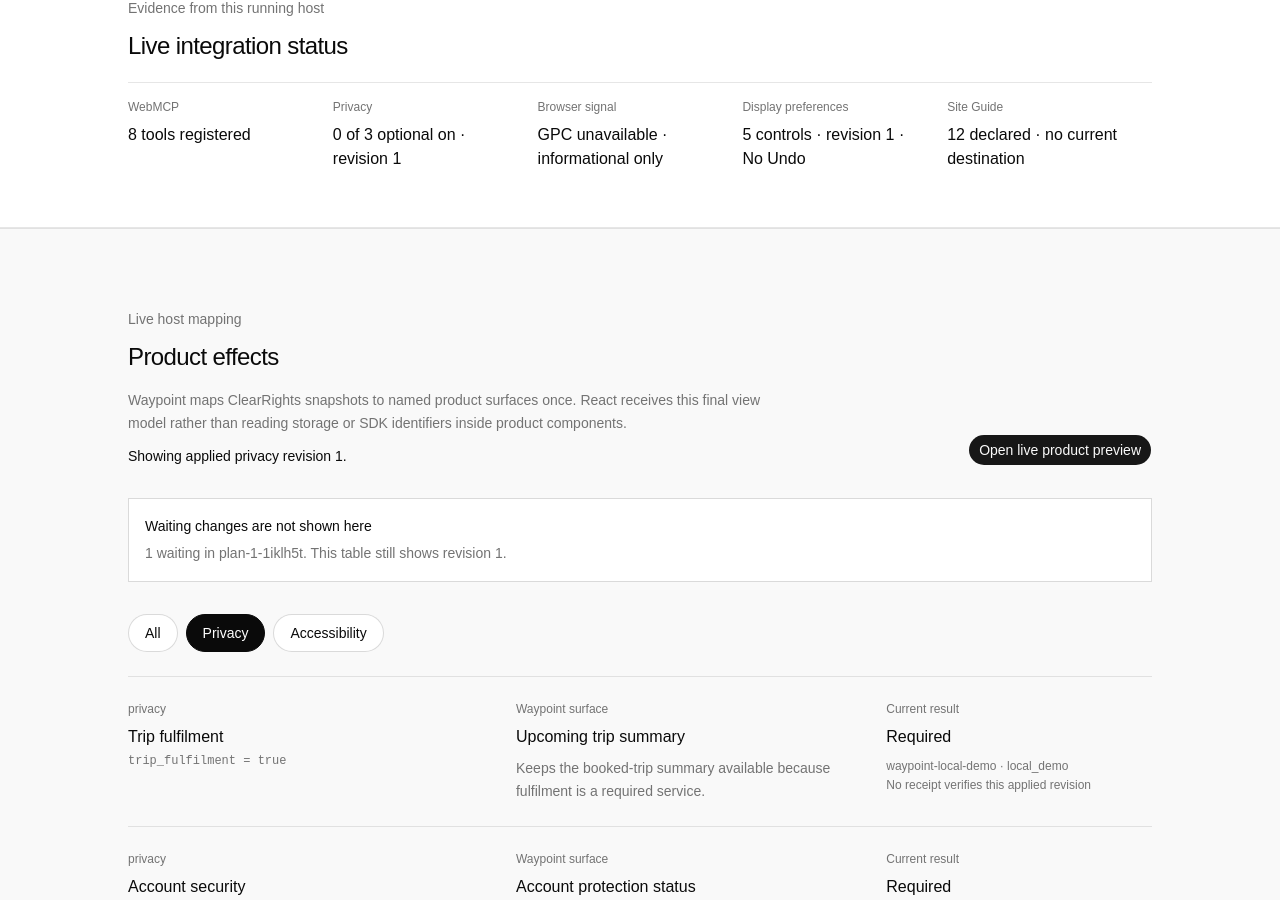
it: privacy settings UI › keeps pending privacy drafts separate from the applied product effects inspector
(page scrolled)
Check: the text "Waiting changes are not shown here" is shown, box [145,518,372,534]
Check: the text "still shows revision 1" is shown, box [145,545,507,561]
Click the button "Open live product preview": point(1060, 450) [968,434,1152,466]
(page scrolled)
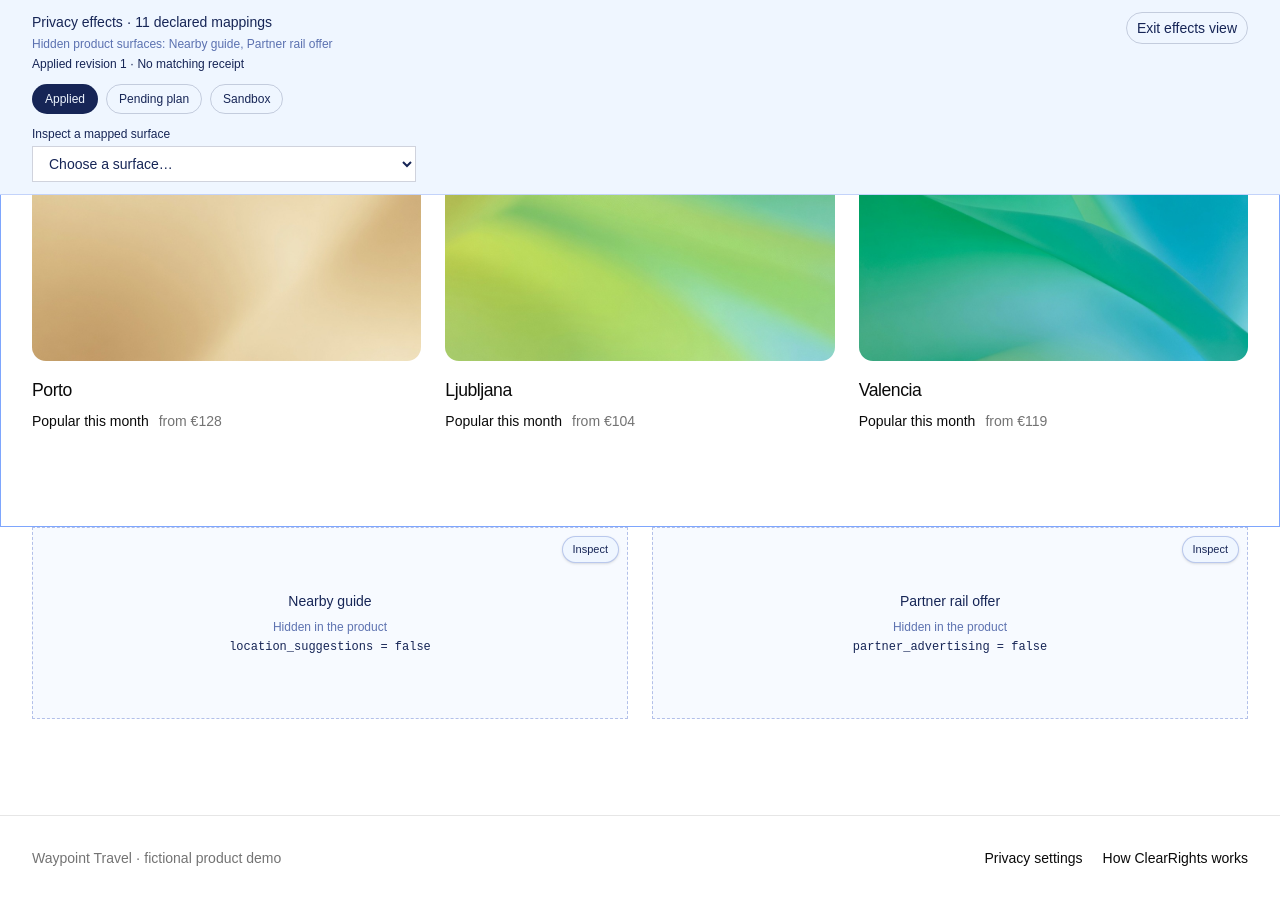
Click the button "Pending plan": point(154, 99) [106,84,202,114]
(page scrolled)
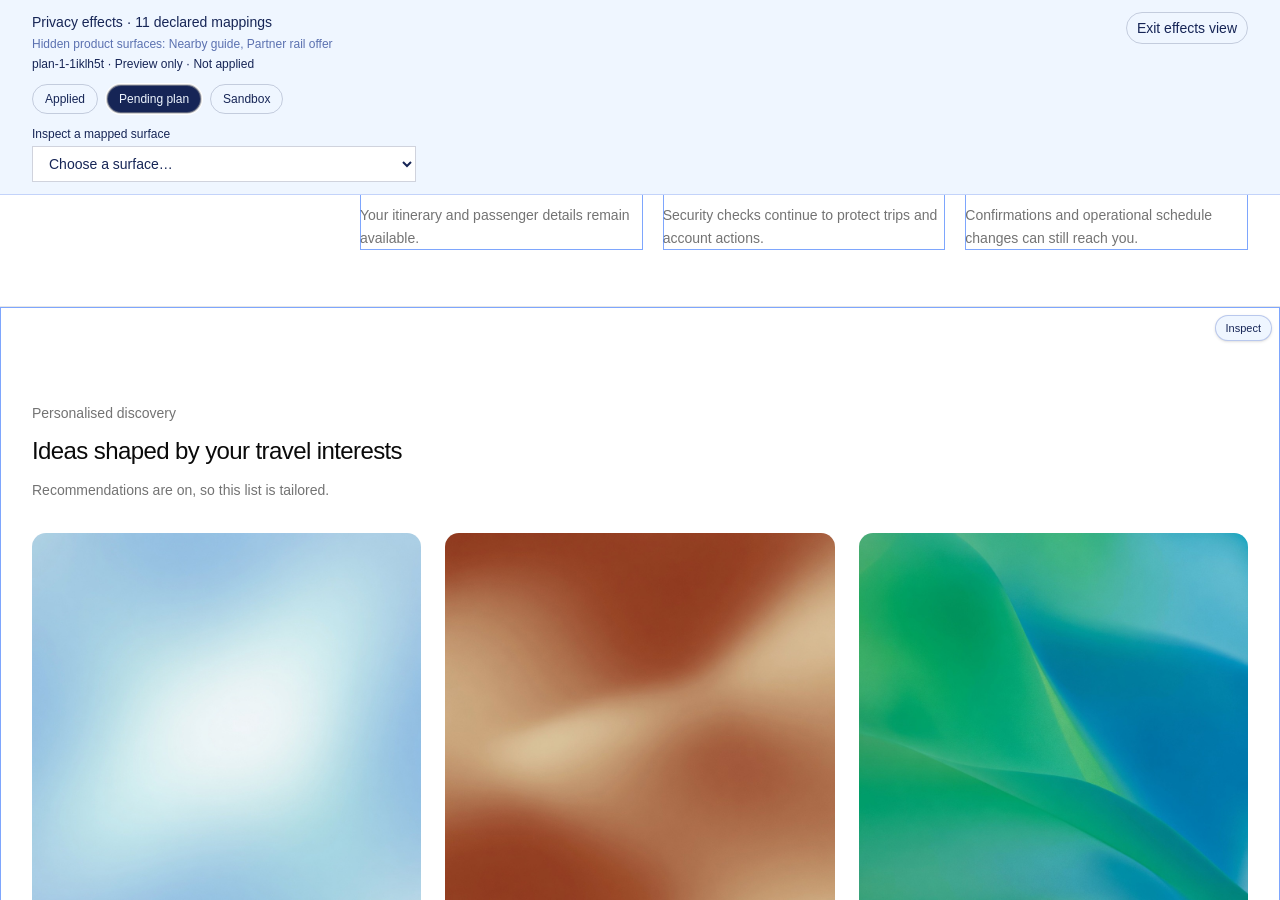
Check: the heading "Ideas shaped by your travel interests" is shown, box [32,436,402,464]
